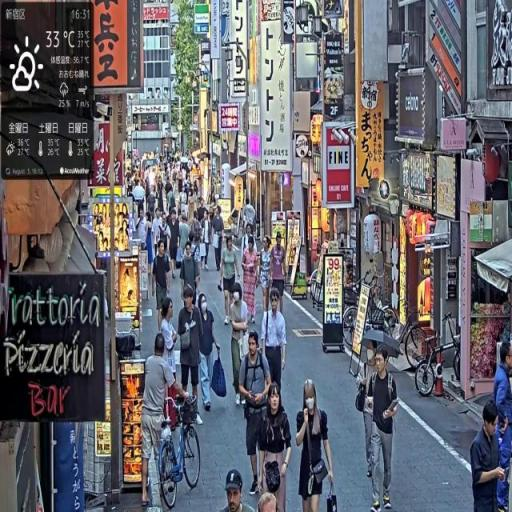person: (360, 345, 401, 512), (141, 333, 176, 512), (238, 327, 274, 497), (251, 384, 293, 512), (296, 378, 336, 512), (472, 401, 507, 512), (178, 284, 204, 422), (197, 294, 223, 414), (262, 291, 288, 403), (228, 283, 250, 410), (220, 234, 241, 329), (495, 406, 512, 512), (154, 240, 172, 332), (269, 233, 287, 317), (180, 243, 202, 309), (223, 469, 253, 512), (260, 234, 275, 318), (211, 204, 225, 281), (202, 207, 213, 273)
